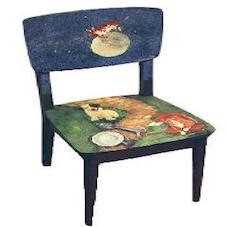chair: (11, 4, 215, 224)
